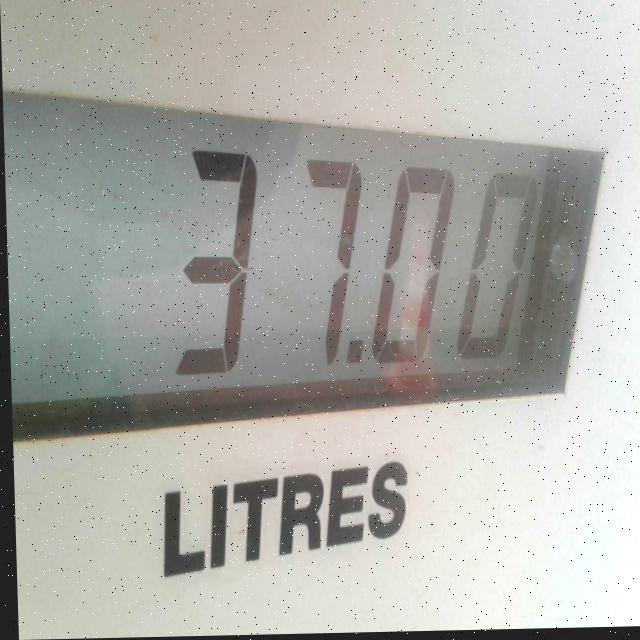.: (344, 330, 371, 390)
0: (374, 166, 462, 410), (451, 161, 538, 374)
3: (180, 132, 262, 390)
7: (303, 152, 366, 377)
